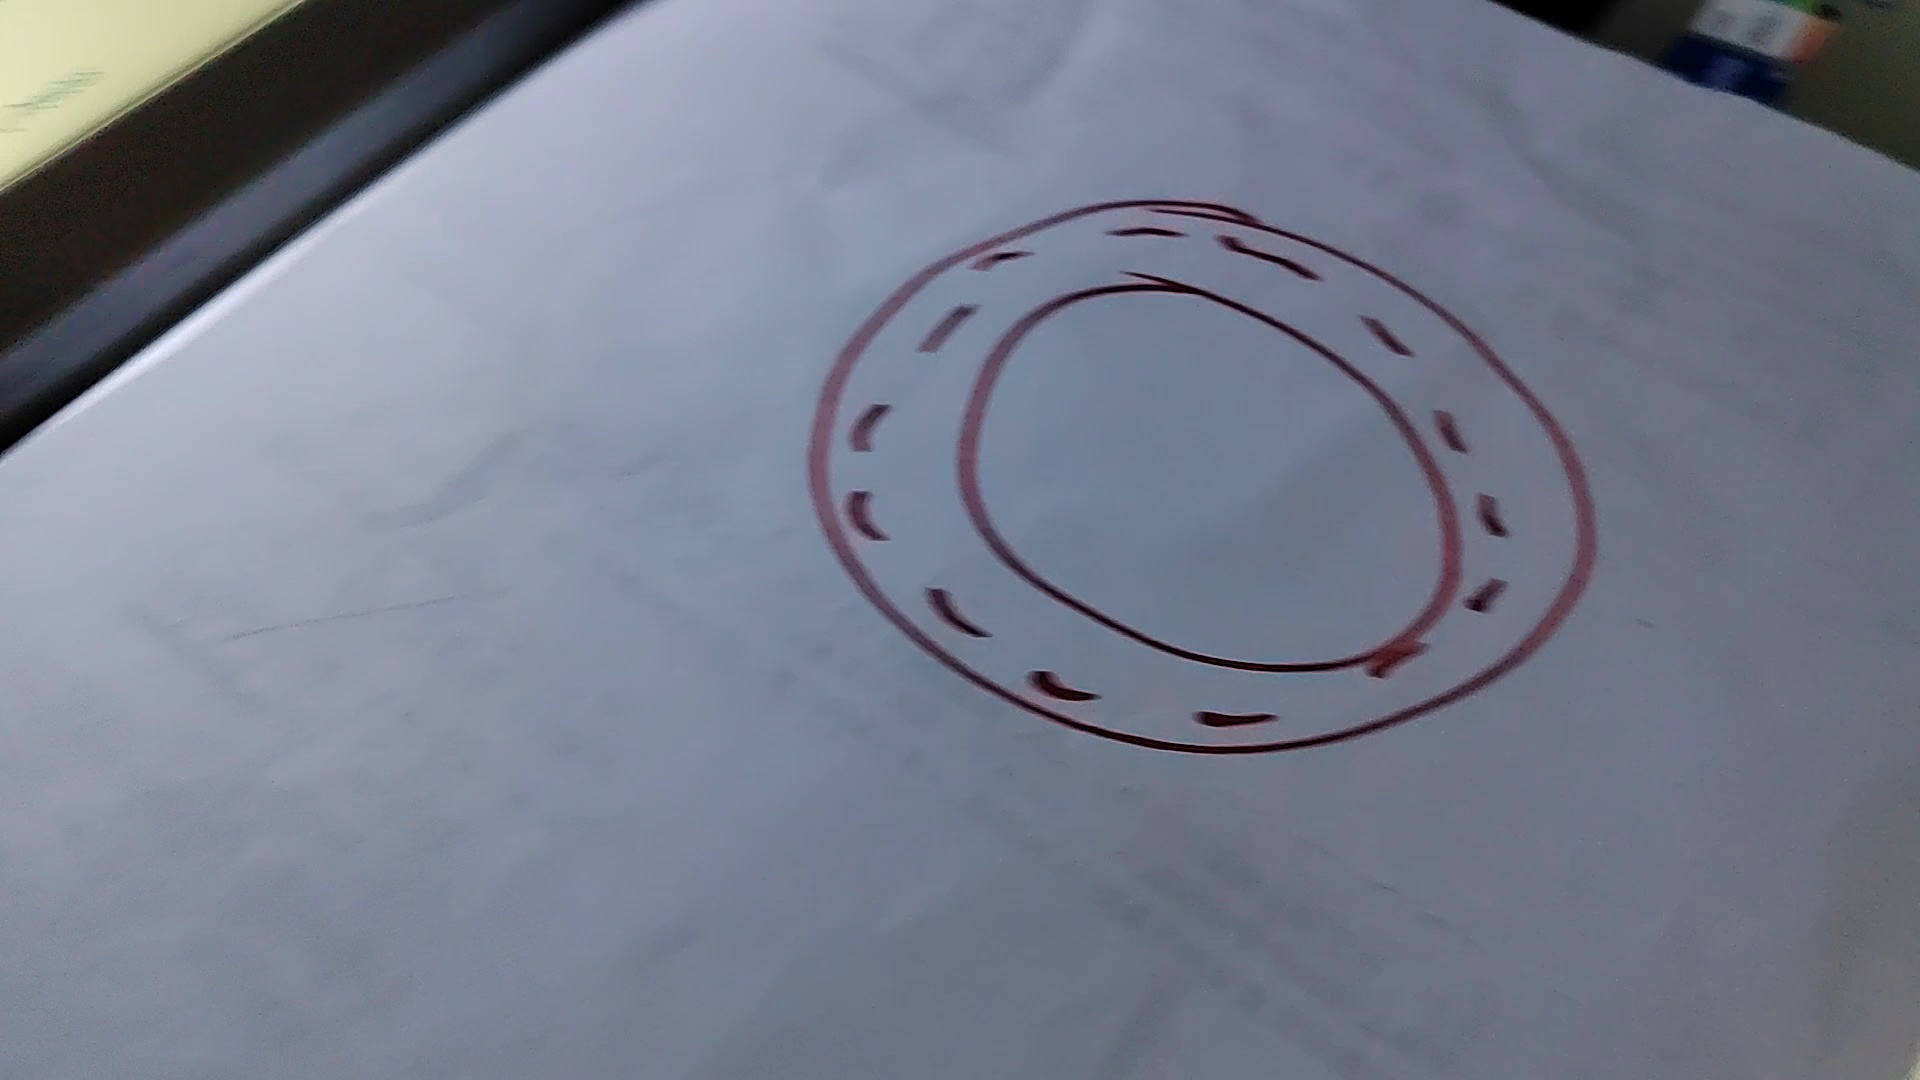circle: (800, 195, 1597, 752)
